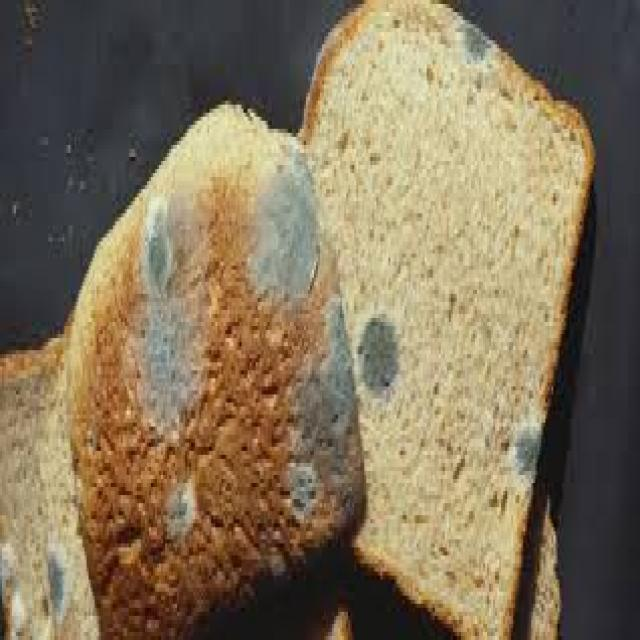organic waste: (296, 0, 592, 636), (61, 97, 364, 636), (304, 475, 559, 636), (0, 306, 99, 636)
